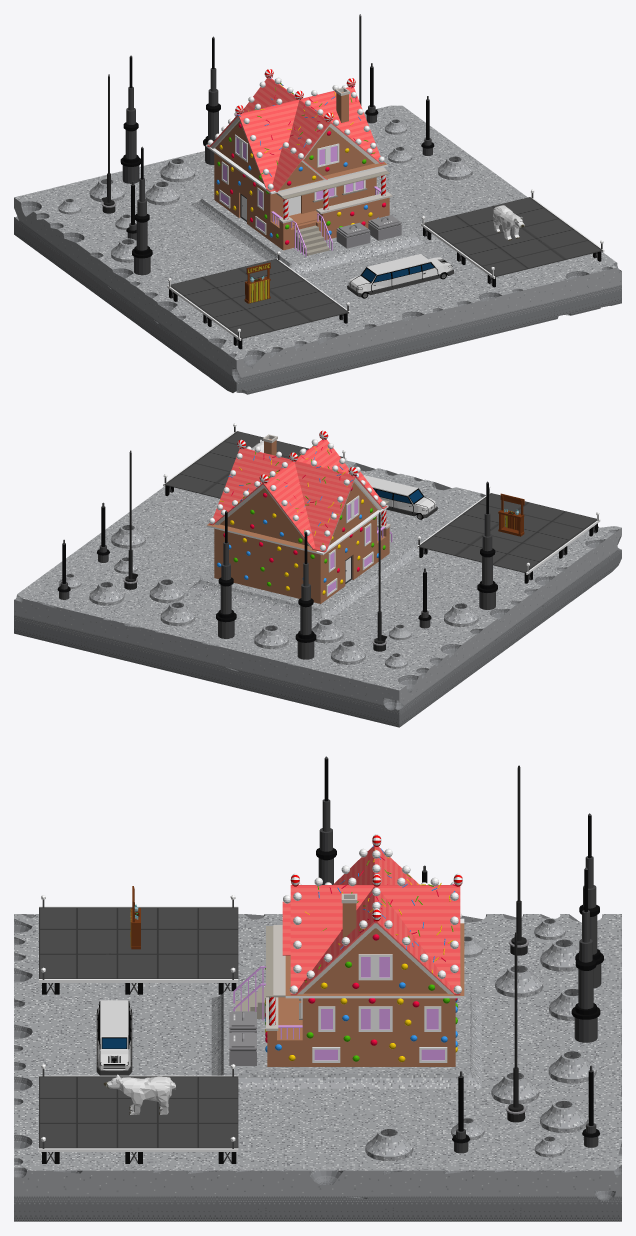
3 renders of one model, top to bottom at view 1: azimuth 30°, elevation 25°; view 2: azimuth 150°, elevation 25°; view 3: azimuth 270°, elevation 25°, orthographic. The views are drawn at different scales.
Visible parts, largest first — view 1: Cube.027, Cube.1203, Cube.026, Cube.025, Cube.028, VEHICLES_LIMOUSINE, Cylinder.020, Cylinder.021, Cylinder.017, OBJRANDOM_LEMONADE_STAND, ANIMAL_OSO_POLAR, Cube.029 (+5 smaller); view 2: Cube.027, Cube.1203, Cube.025, Cube.028, Cube.026, VEHICLES_LIMOUSINE, Cylinder.020, Cylinder.021, Cylinder.017, OBJRANDOM_LEMONADE_STAND, Cylinder.031, Cylinder.028 (+8 smaller); view 3: Cube.027, Cube.1203, Cube.025, Cube.026, Cube.028, VEHICLES_LIMOUSINE, Cylinder.017, ANIMAL_OSO_POLAR, Cylinder.020, Cylinder.021, Cylinder.033, Cylinder.031 (+10 smaller).
Boxes of the visible parts, box(x1,y1,x2,y2) form: Cube.027: box(14, 105, 621, 394); Cube.1203: box(205, 69, 392, 256); Cube.026: box(421, 189, 604, 287); Cube.025: box(167, 251, 350, 349); Cube.028: box(191, 195, 424, 274); VEHICLES_LIMOUSINE: box(347, 254, 453, 298); Cylinder.020: box(120, 55, 140, 183); Cylinder.021: box(132, 146, 152, 275); Cylinder.017: box(203, 36, 220, 164); OBJRANDOM_LEMONADE_STAND: box(244, 262, 270, 303); ANIMAL_OSO_POLAR: box(493, 205, 524, 240); Cube.029: box(336, 222, 370, 248); Cube.027: box(14, 460, 621, 727); Cube.1203: box(206, 430, 392, 603); Cube.025: box(417, 485, 600, 583); Cube.028: box(190, 538, 419, 620); Cube.026: box(163, 423, 346, 498); VEHICLES_LIMOUSINE: box(363, 475, 437, 519); Cylinder.020: box(295, 531, 316, 659); Cylinder.021: box(477, 481, 497, 609); Cylinder.017: box(216, 510, 236, 638); OBJRANDOM_LEMONADE_STAND: box(498, 493, 524, 536); Cylinder.031: box(89, 581, 124, 605); Cylinder.028: box(331, 640, 365, 664); Cube.027: box(14, 914, 621, 1221); Cube.1203: box(233, 834, 464, 1066); Cube.025: box(39, 895, 238, 994); Cube.026: box(39, 1064, 238, 1163); Cube.028: box(211, 991, 481, 1088); VEHICLES_LIMOUSINE: box(96, 1000, 132, 1075); Cylinder.017: box(571, 867, 600, 1042); ANIMAL_OSO_POLAR: box(103, 1074, 175, 1114); Cylinder.020: box(575, 813, 603, 988); Cylinder.021: box(316, 756, 336, 884); Cylinder.033: box(365, 1128, 413, 1160); Cylinder.031: box(540, 1100, 587, 1132).
Bounding box in the file's own units: 4000 × 1951 × 4000.
Materials: 46 (5 with a texture image).
